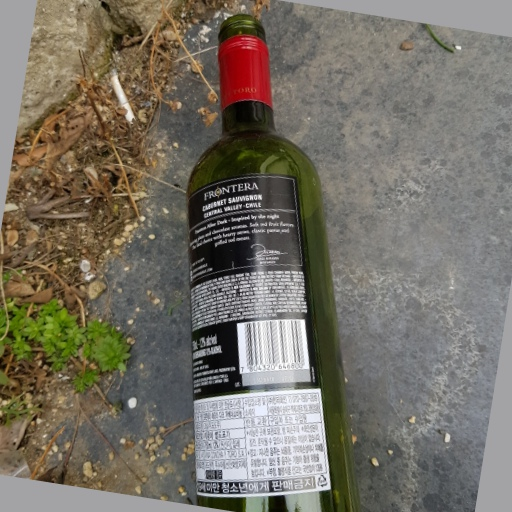Glass_2: (182, 12, 355, 512)
